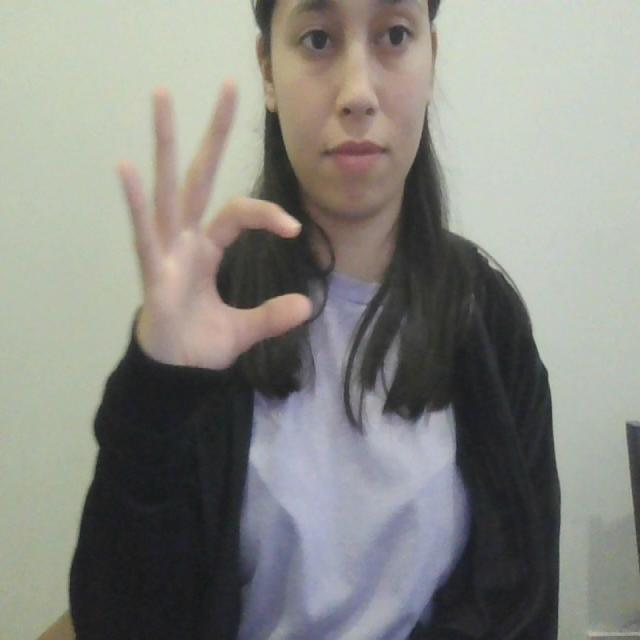Tuvalet: (97, 66, 316, 393)
